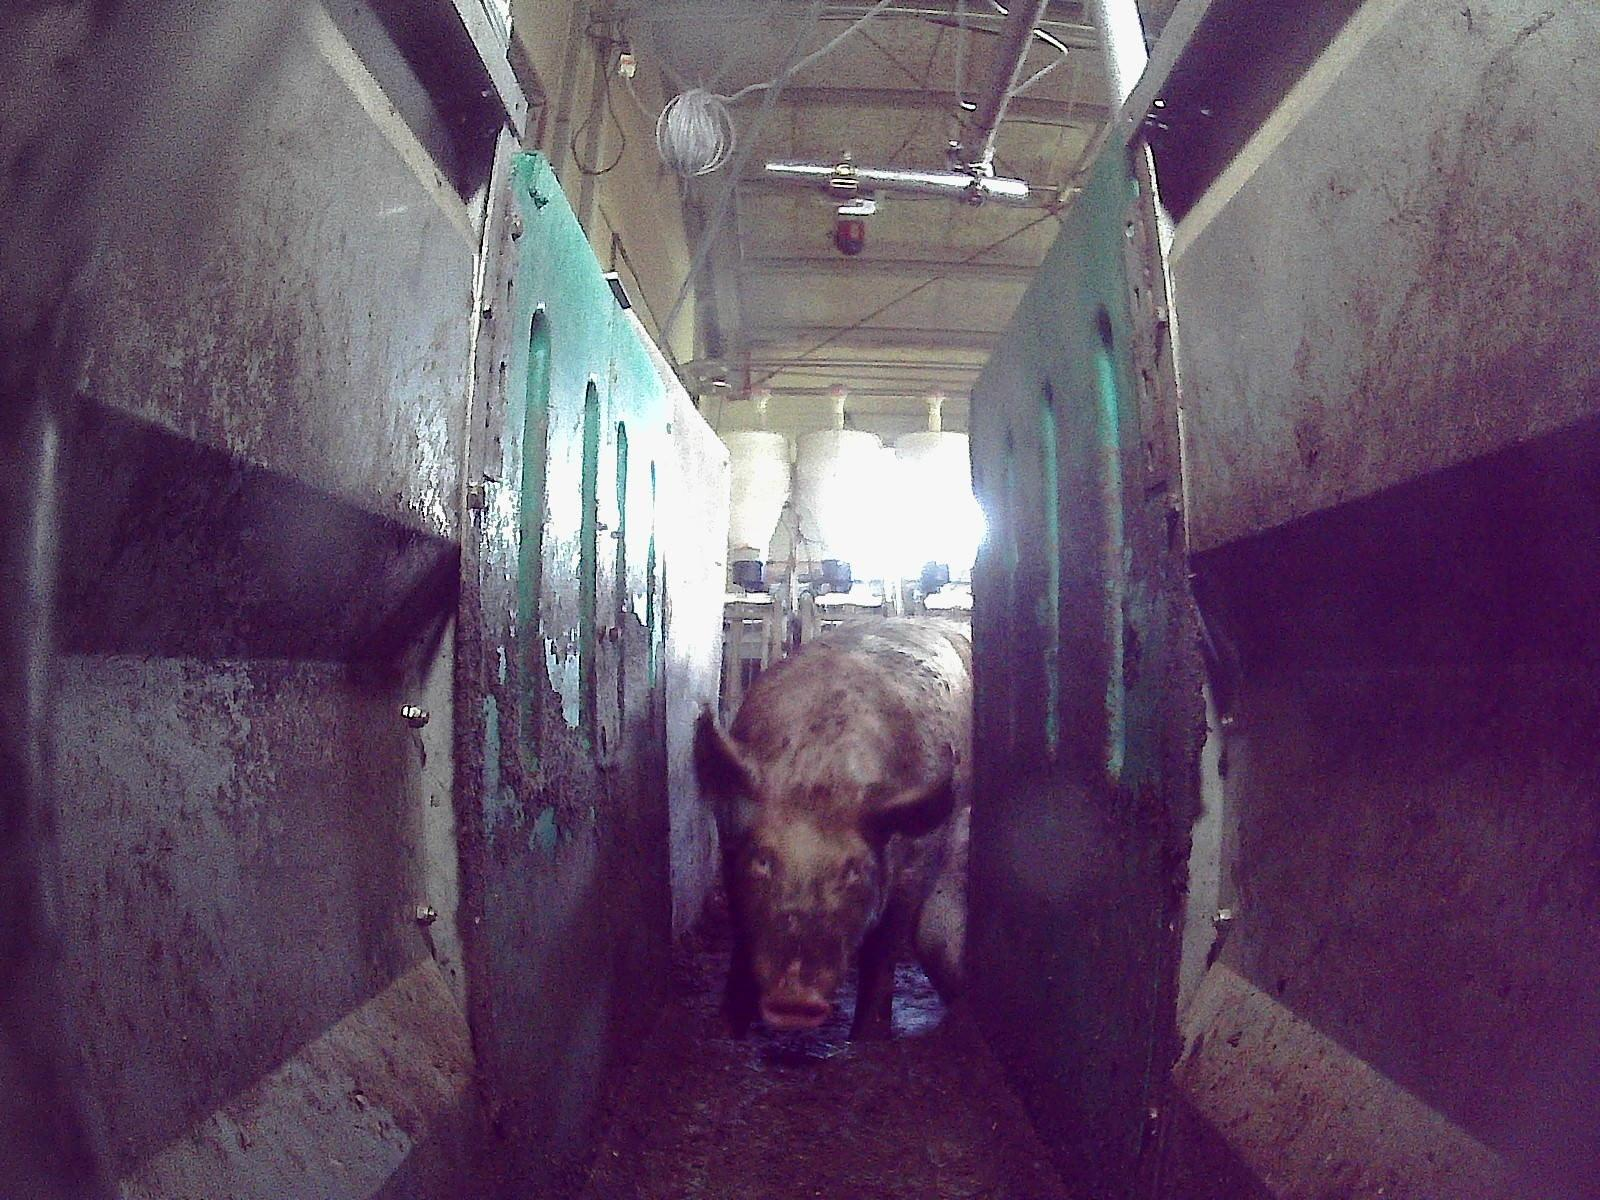Face: (739, 792, 883, 1024)
